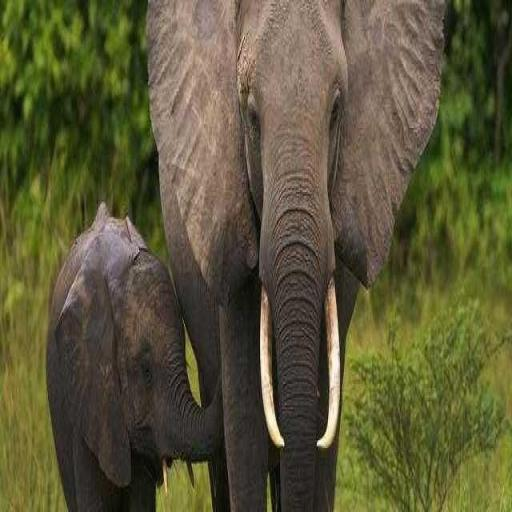Elephant: (144, 0, 446, 510), (44, 200, 226, 510)
